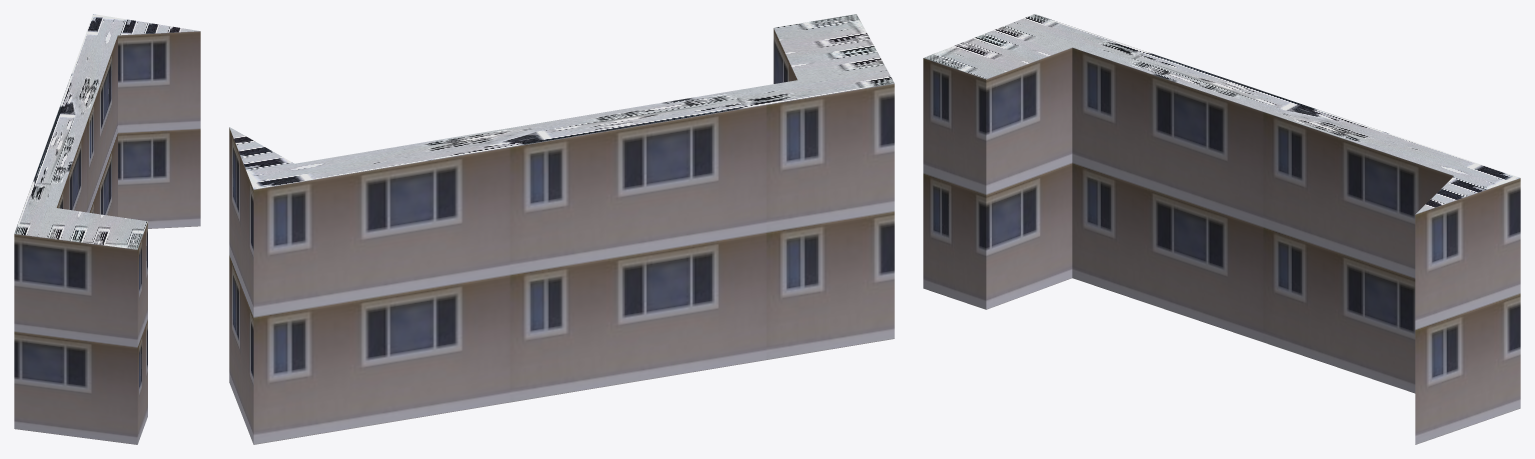
Rendered from ResTex__3060.fbx.
3 views of the same model, side by side, from view 1: azimuth 30°, elevation 25°; view 2: azimuth 150°, elevation 25°; view 3: azimuth 270°, elevation 25° (orthographic). The views are drawn at different scales.
Parts seen in each view (by area): view 1: CityEngineMaterial_21_m, CityEngineMaterial_m; view 2: CityEngineMaterial_21_m, CityEngineMaterial_m; view 3: CityEngineMaterial_21_m, CityEngineMaterial_m.
Part boxes in pixels (x1,y1,x2,y2): CityEngineMaterial_21_m: (14, 31, 200, 444); CityEngineMaterial_m: (14, 14, 200, 249); CityEngineMaterial_21_m: (229, 28, 894, 444); CityEngineMaterial_m: (229, 14, 894, 189); CityEngineMaterial_21_m: (923, 47, 1520, 444); CityEngineMaterial_m: (924, 14, 1519, 213).
Bounding box in the file's own units: 11.18 × 6 × 14.08.
2 materials, 2 textured.
